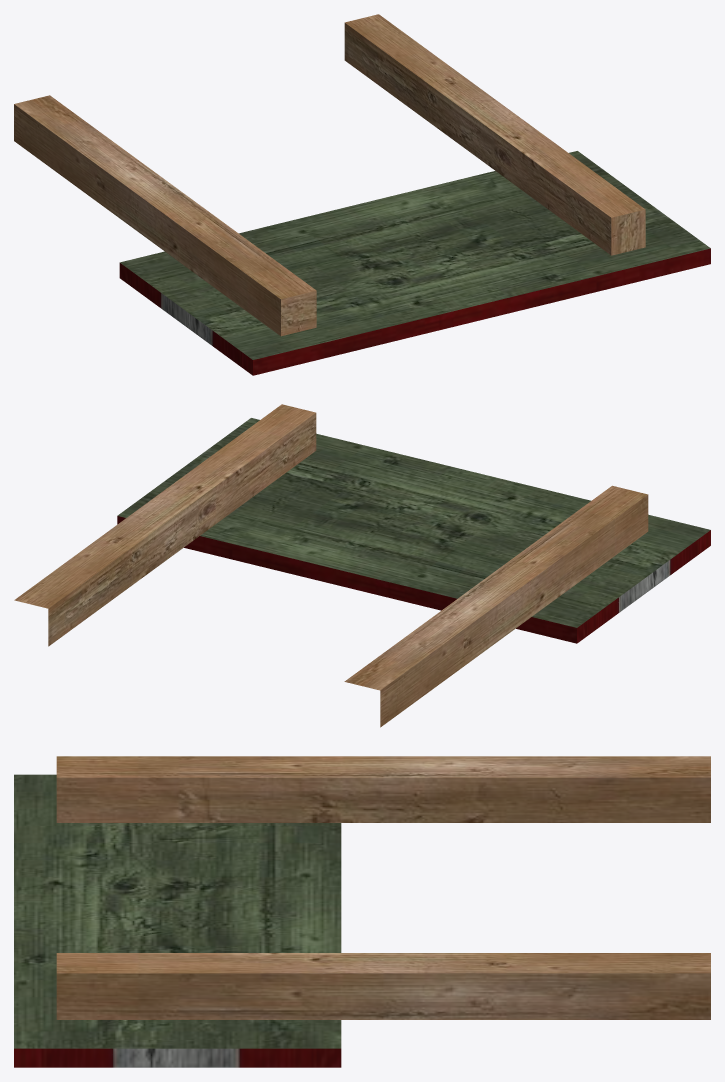
Rendered from sign_minefield1.glb.
3 views of the same model, one above another, from view 1: azimuth 30°, elevation 25°; view 2: azimuth 150°, elevation 25°; view 3: azimuth 270°, elevation 25° (orthographic). The views are drawn at different scales.
Bounding box in the file's own units: 23.78 × 2.66 × 25.56.
2 materials, 2 textured.
